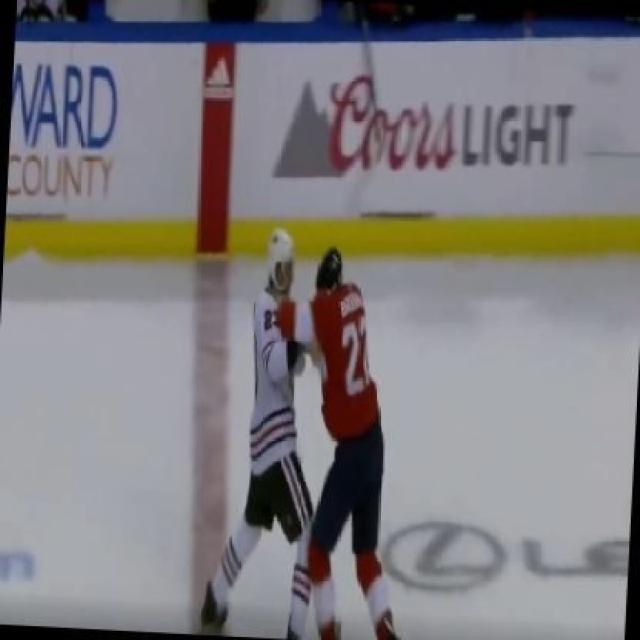fight: (185, 220, 428, 638)
